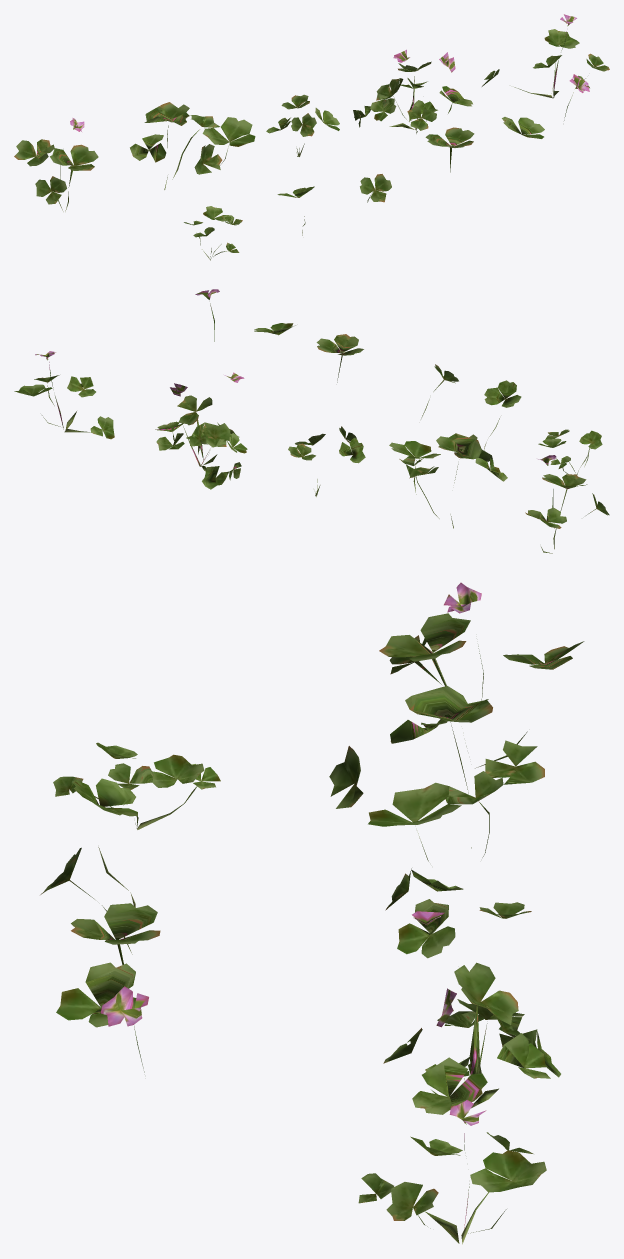
File: shrub_sorrel_01_lod2.glb
The picture shows the model from 3 angles, top to bottom: view 1: azimuth 30°, elevation 25°; view 2: azimuth 150°, elevation 25°; view 3: azimuth 270°, elevation 25°; orthographic projection. The views are drawn at different scales.
Parts seen in each view (by area): view 1: shrub_sorrel_01_b, shrub_sorrel_01_d, shrub_sorrel_01_a, shrub_sorrel_01_e, shrub_sorrel_01_c, shrub_sorrel_01_i, shrub_sorrel_01_f, shrub_sorrel_01_h, shrub_sorrel_01_j; view 2: shrub_sorrel_01_d, shrub_sorrel_01_b, shrub_sorrel_01_e, shrub_sorrel_01_a, shrub_sorrel_01_c, shrub_sorrel_01_f, shrub_sorrel_01_i, shrub_sorrel_01_g; view 3: shrub_sorrel_01_d, shrub_sorrel_01_b, shrub_sorrel_01_e, shrub_sorrel_01_a, shrub_sorrel_01_f, shrub_sorrel_01_c, shrub_sorrel_01_j, shrub_sorrel_01_i, shrub_sorrel_01_g, shrub_sorrel_01_k.
Part boxes in pixels (left/top/right/bottom): shrub_sorrel_01_b: left=130, top=102, right=255, bottom=189; shrub_sorrel_01_d: left=353, top=49, right=472, bottom=133; shrub_sorrel_01_a: left=14, top=118, right=98, bottom=211; shrub_sorrel_01_e: left=482, top=14, right=609, bottom=98; shrub_sorrel_01_c: left=266, top=94, right=339, bottom=156; shrub_sorrel_01_i: left=425, top=127, right=474, bottom=172; shrub_sorrel_01_f: left=184, top=206, right=242, bottom=260; shrub_sorrel_01_h: left=360, top=174, right=391, bottom=202; shrub_sorrel_01_j: left=502, top=117, right=544, bottom=138; shrub_sorrel_01_d: left=155, top=372, right=247, bottom=489; shrub_sorrel_01_b: left=389, top=433, right=507, bottom=528; shrub_sorrel_01_e: left=14, top=351, right=114, bottom=439; shrub_sorrel_01_a: left=525, top=455, right=609, bottom=553; shrub_sorrel_01_c: left=288, top=426, right=365, bottom=496; shrub_sorrel_01_f: left=538, top=429, right=602, bottom=475; shrub_sorrel_01_i: left=316, top=334, right=363, bottom=382; shrub_sorrel_01_g: left=484, top=380, right=521, bottom=450; shrub_sorrel_01_d: left=383, top=911, right=560, bottom=1114; shrub_sorrel_01_b: left=329, top=686, right=544, bottom=861; shrub_sorrel_01_e: left=358, top=1100, right=546, bottom=1244; shrub_sorrel_01_a: left=379, top=582, right=584, bottom=768; shrub_sorrel_01_f: left=53, top=742, right=220, bottom=829; shrub_sorrel_01_c: left=385, top=868, right=531, bottom=958; shrub_sorrel_01_j: left=56, top=962, right=136, bottom=1027; shrub_sorrel_01_i: left=71, top=903, right=160, bottom=964; shrub_sorrel_01_g: left=73, top=778, right=137, bottom=906; shrub_sorrel_01_k: left=100, top=986, right=148, bottom=1072.
Bounding box in the file's own units: 0.3518 × 0.057 × 0.1464.
Materials: 1 (1 with a texture image).
